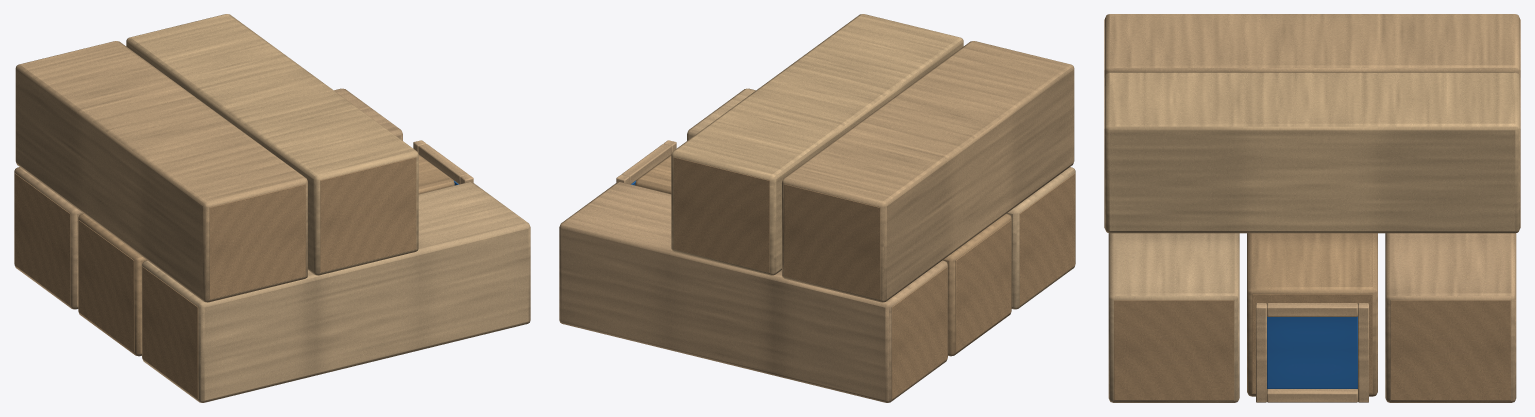
The model's file is 12-crossed-block-layers-5-2.fbx.
3 views of the same model, side by side, from view 1: azimuth 30°, elevation 25°; view 2: azimuth 150°, elevation 25°; view 3: azimuth 270°, elevation 25° (orthographic). The views are drawn at different scales.
Parts seen in each view (by area): view 1: crossed-block-layers-5-2; view 2: crossed-block-layers-5-2; view 3: crossed-block-layers-5-2.
Part boxes in pixels (left/top/right/bottom): crossed-block-layers-5-2: left=14, top=14, right=530, bottom=402; crossed-block-layers-5-2: left=559, top=14, right=1075, bottom=402; crossed-block-layers-5-2: left=1104, top=14, right=1520, bottom=402.
Bounding box in the file's own units: 5667 × 3200 × 5515.
Materials: 1 (1 with a texture image).
